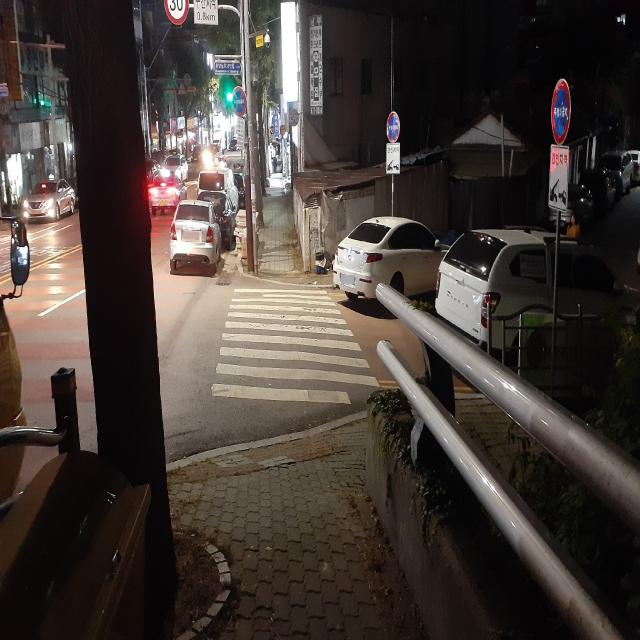횡단보도: (210, 287, 381, 406)
